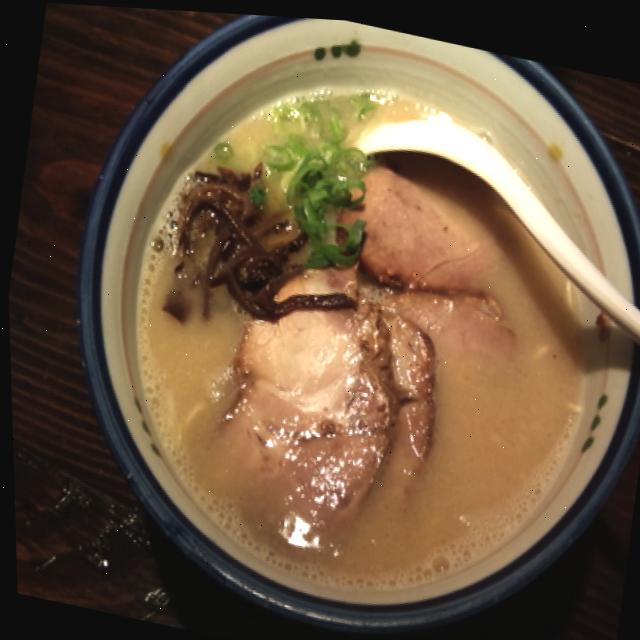面条主食: (26, 1, 640, 640)
